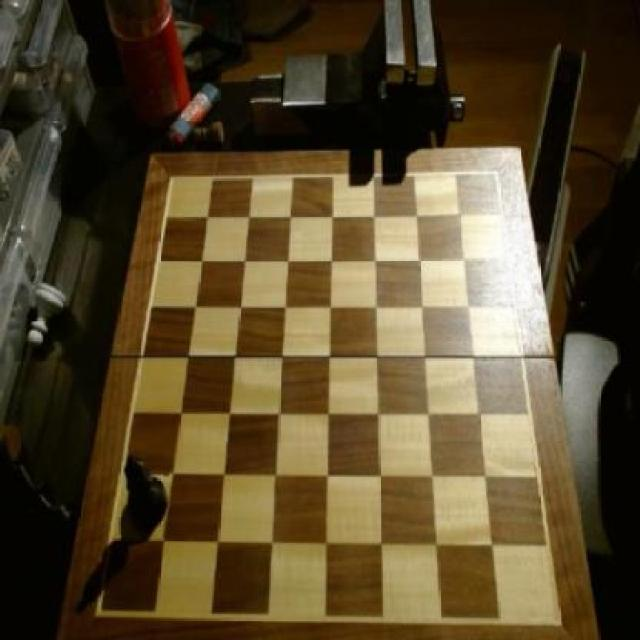bishop: (121, 449, 170, 537)
